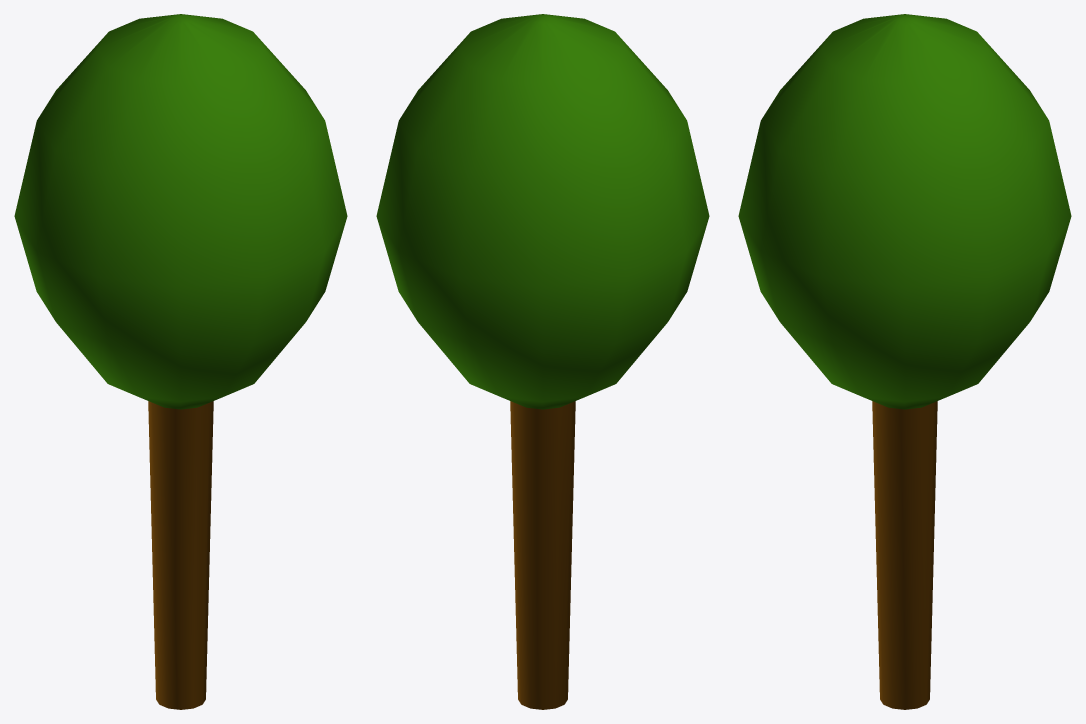
The model's file is 棒棒糖樹二版.fbx.
The picture shows the model from 3 angles, left to right: view 1: azimuth 30°, elevation 25°; view 2: azimuth 150°, elevation 25°; view 3: azimuth 270°, elevation 25°; orthographic projection.
Visible parts, largest first — view 1: 圓柱體.001; view 2: 圓柱體.001; view 3: 圓柱體.001.
Boxes of the visible parts, <box> form: 圓柱體.001: <box>14,14,347,709</box>; 圓柱體.001: <box>376,14,709,709</box>; 圓柱體.001: <box>738,14,1071,709</box>.
Size of the model in its own units: 100 by 100 by 226.
Materials: 1 (1 with a texture image).
